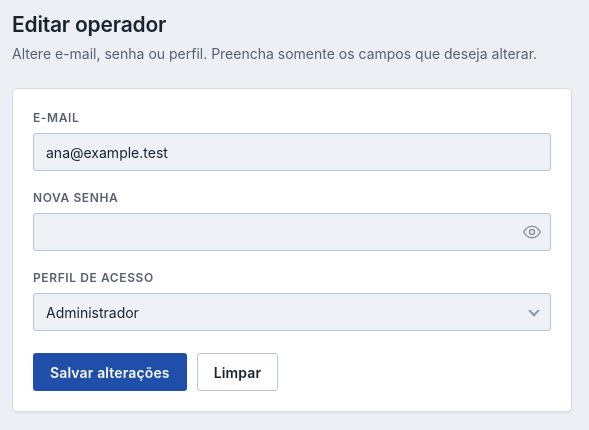
EditOperatorPage: abertura e envio parcial › envia apenas o perfil quando só o perfil mudou
Select "Operador" in the dropdown labelled "Perfil de acesso". click: (292, 312)
box: x1=33 y1=293 x2=551 y2=331
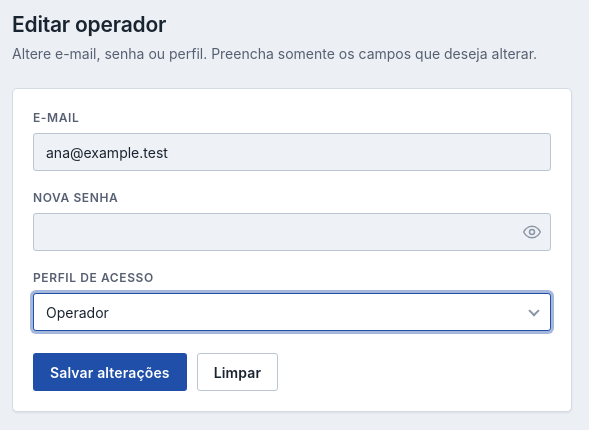
Click the button "Salvar alterações". click: (110, 372)
box: x1=33 y1=353 x2=187 y2=391
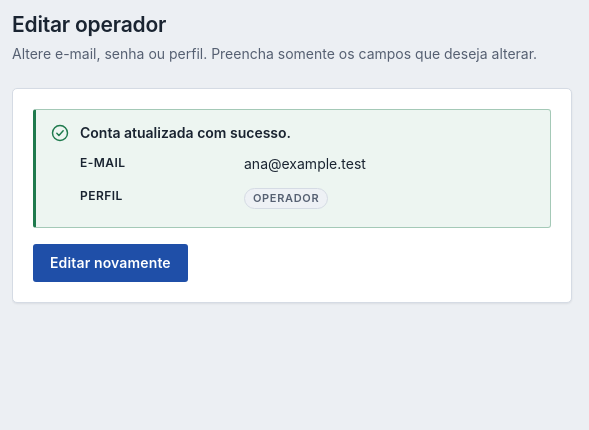
Expected: the text "Conta atualizada com sucesso." is shown, x1=80 y1=124 x2=291 y2=141
